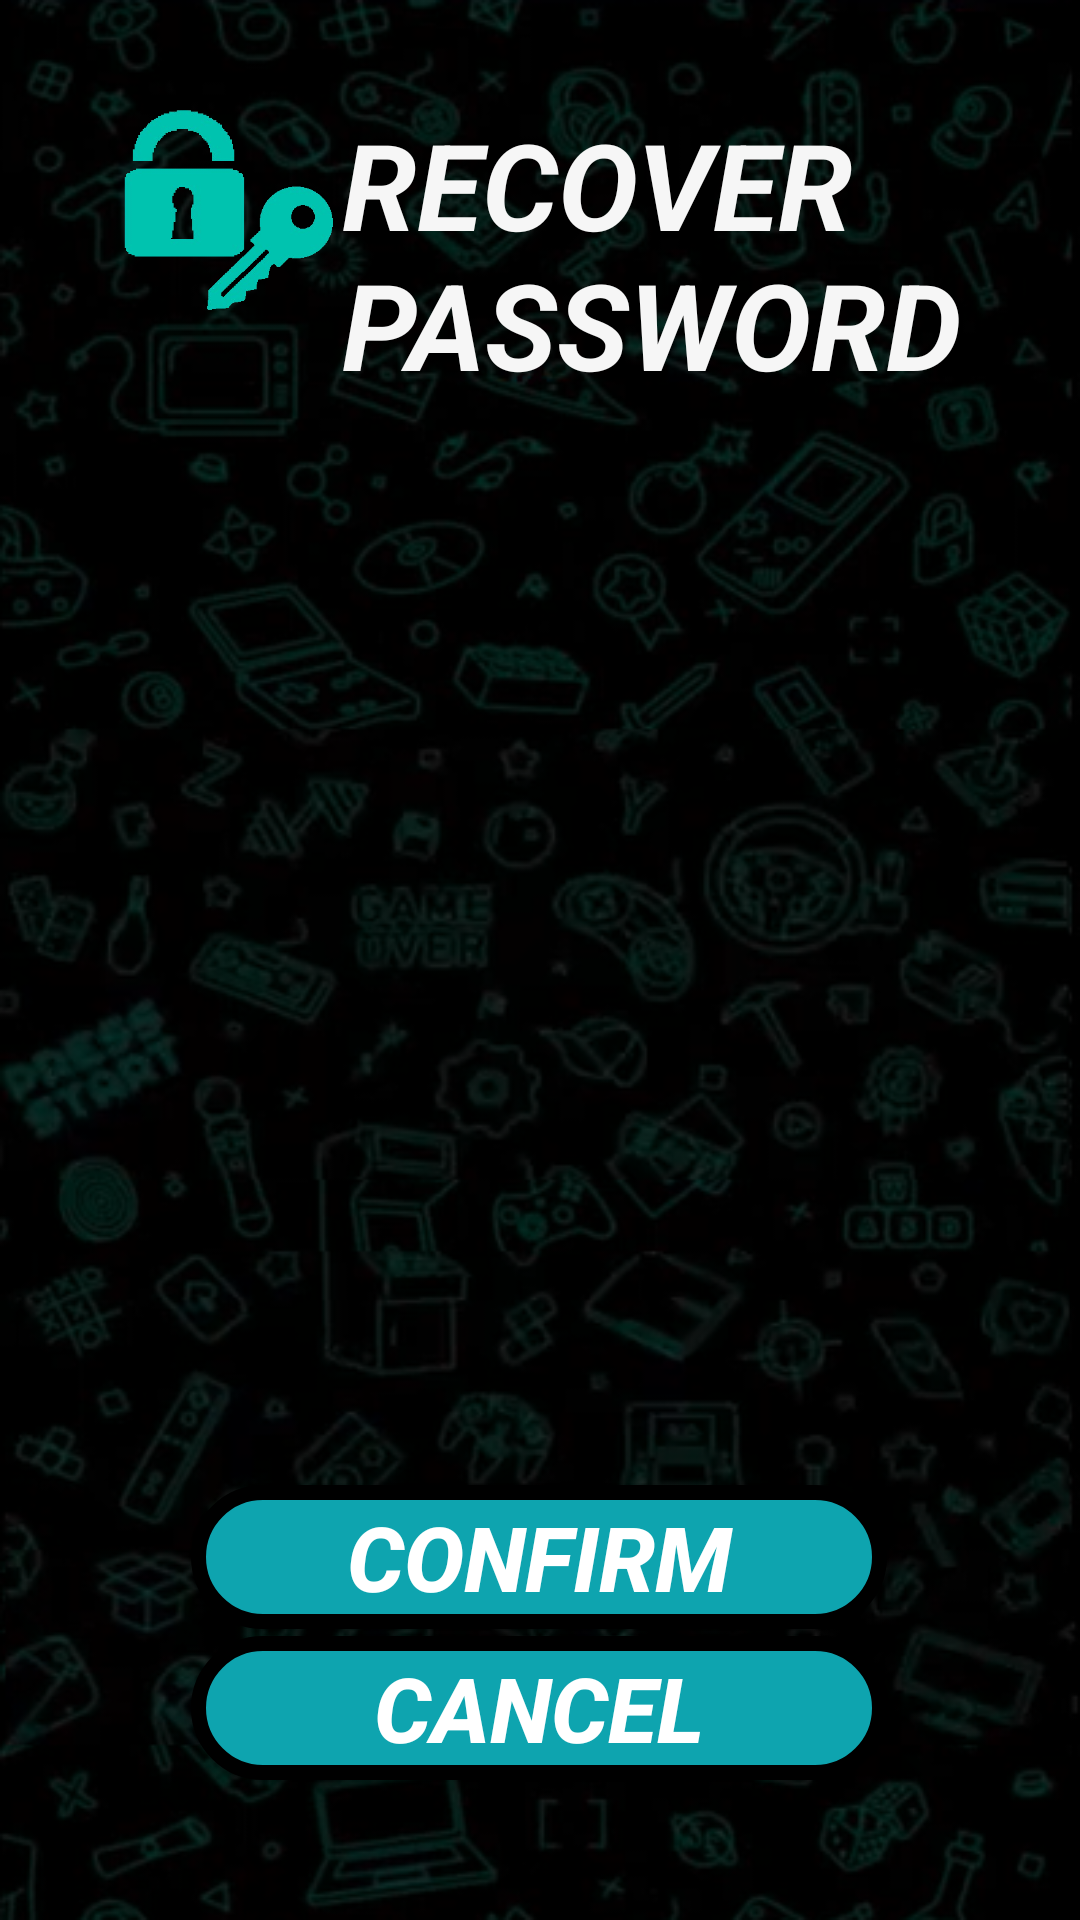

Icons on this 1080 × 1920 Android screen, each with the point to tap as [x,y]:
accesskey: [230,211]
